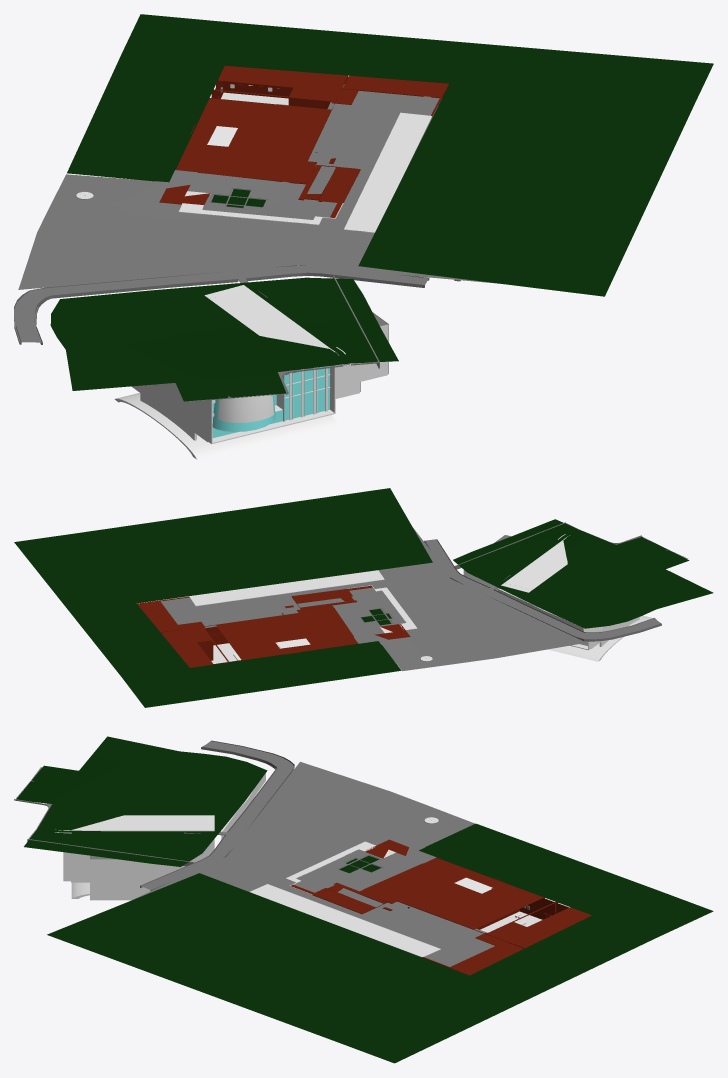
File: Tec.obj
3 renders of one model, top to bottom at view 1: azimuth 30°, elevation 25°; view 2: azimuth 150°, elevation 25°; view 3: azimuth 270°, elevation 25°, orthographic. The views are drawn at different scales.
Parts seen in each view (by area): view 1: top1; view 2: top1; view 3: top1.
Part boxes in pixels (x1=…): top1: x1=14, y1=14, x2=713, y2=459; top1: x1=14, y1=488, x2=713, y2=707; top1: x1=14, y1=736, x2=713, y2=1063.
Size of the model in its own units: 13657 by 1275 by 12332.
